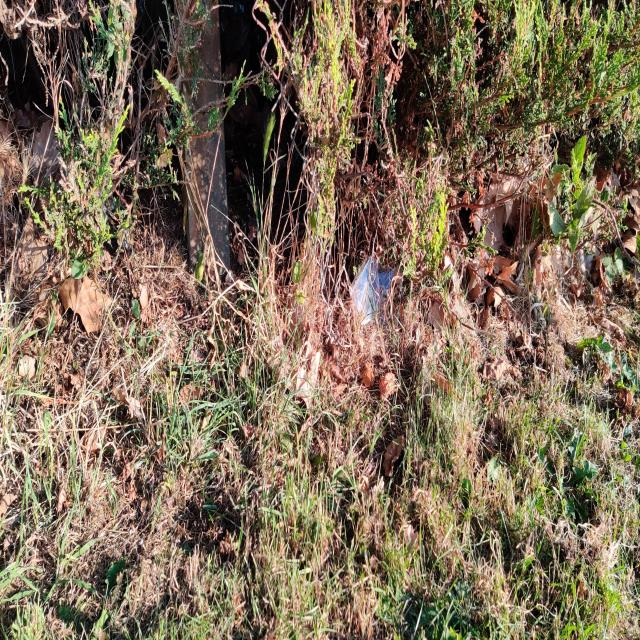litter: (345, 248, 416, 335)
